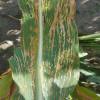Corn leaf blight: (5, 0, 83, 99)
